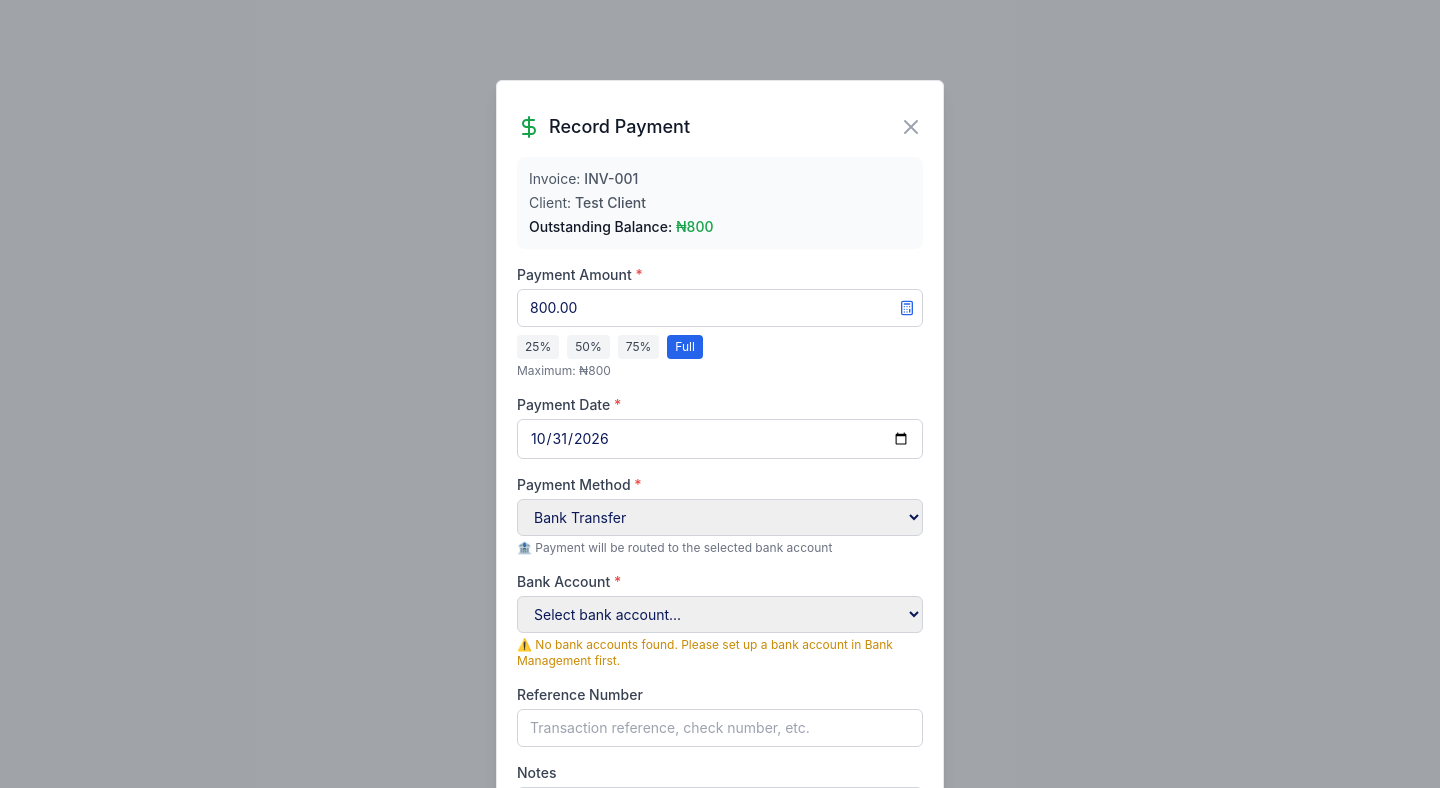
Test: PaymentRecordingModal › validates payment amount does not exceed balance
This screenshot has width=1440, height=788.
Enter amount greater than balance
Replace the text in the field showing "800.00" with "1000.00" at point(720, 308), box x1=517 y1=289 x2=923 y2=327
(page scrolled)
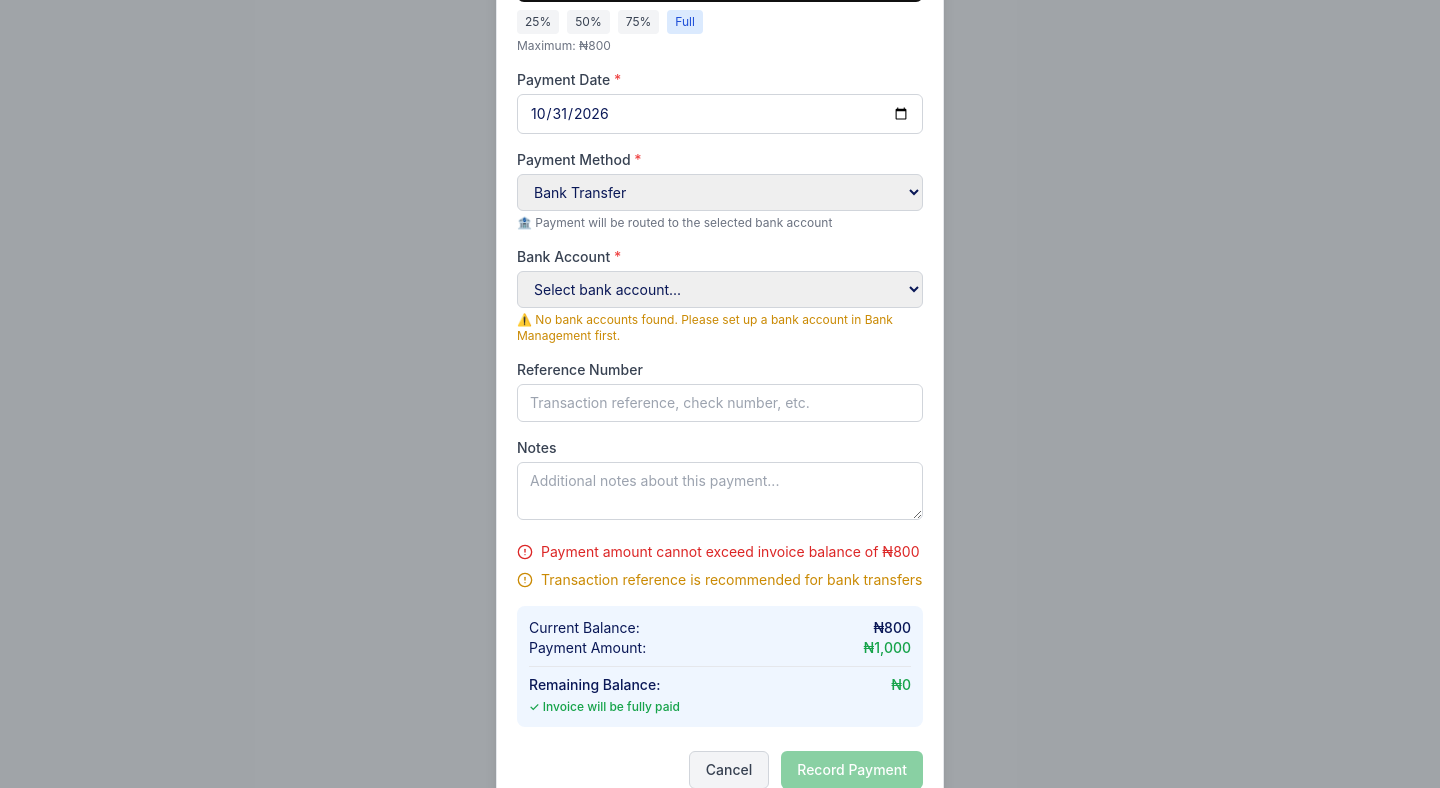
Result: the text "Payment amount cannot exceed invoice balance of ₦800" is shown at x1=541 y1=542 x2=920 y2=562
